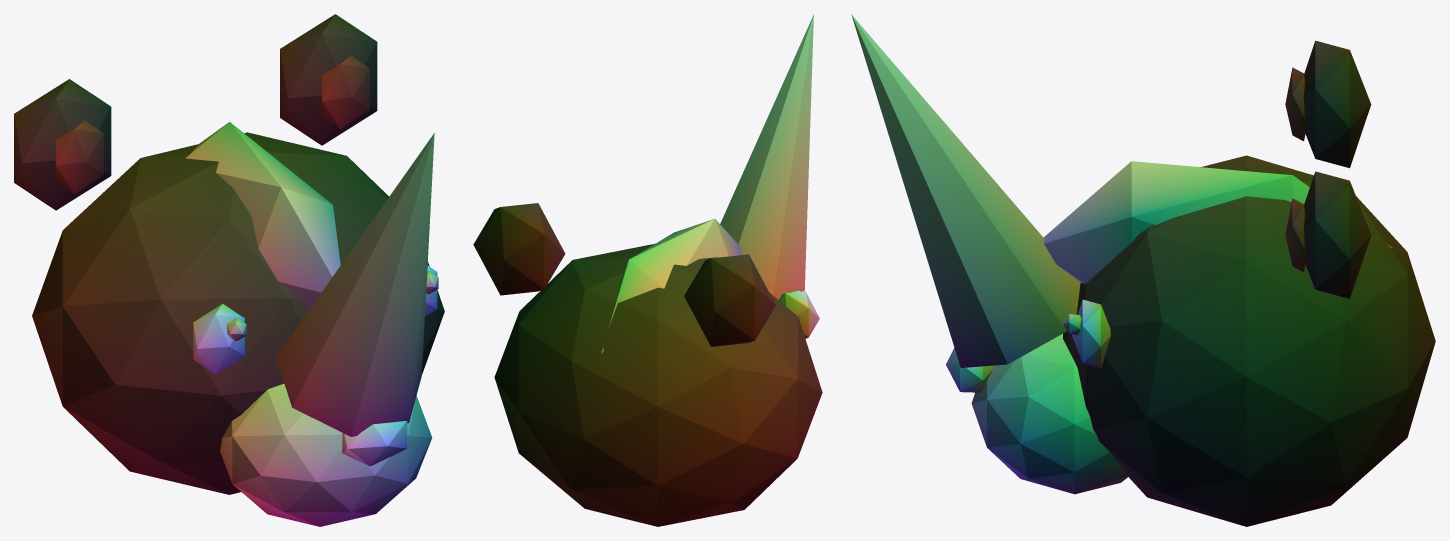
Rendered from Horn.fbx.
3 views of the same model, side by side, from view 1: azimuth 30°, elevation 25°; view 2: azimuth 150°, elevation 25°; view 3: azimuth 270°, elevation 25° (orthographic). The views are drawn at different scales.
Parts seen in each view (by area): view 1: Horn; view 2: Horn; view 3: Horn.
Part boxes in pixels (x1,y1,x2,y2): Horn: (14,14,444,526); Horn: (473,14,822,526); Horn: (851,14,1435,526).
Bounding box in the file's own units: 0.4942 × 0.63 × 0.68.
